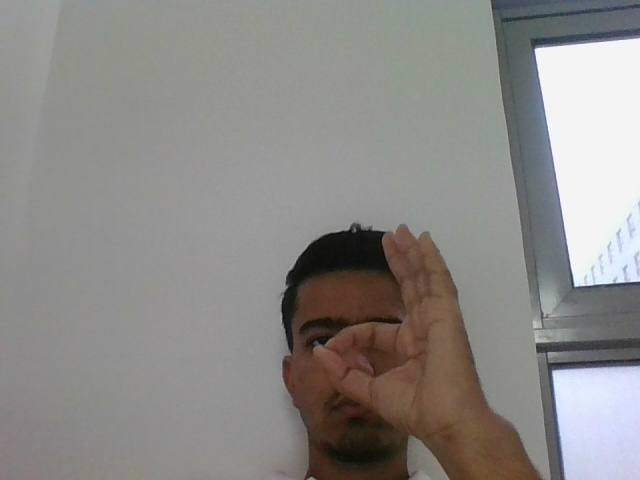ok: (312, 224, 481, 446)
